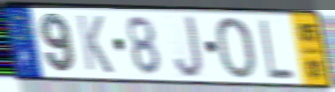8: (126, 14, 163, 77)
9: (38, 10, 77, 76)
J: (173, 13, 205, 80)
K: (74, 12, 116, 76)
L: (257, 17, 297, 82)
O: (214, 15, 258, 81)
